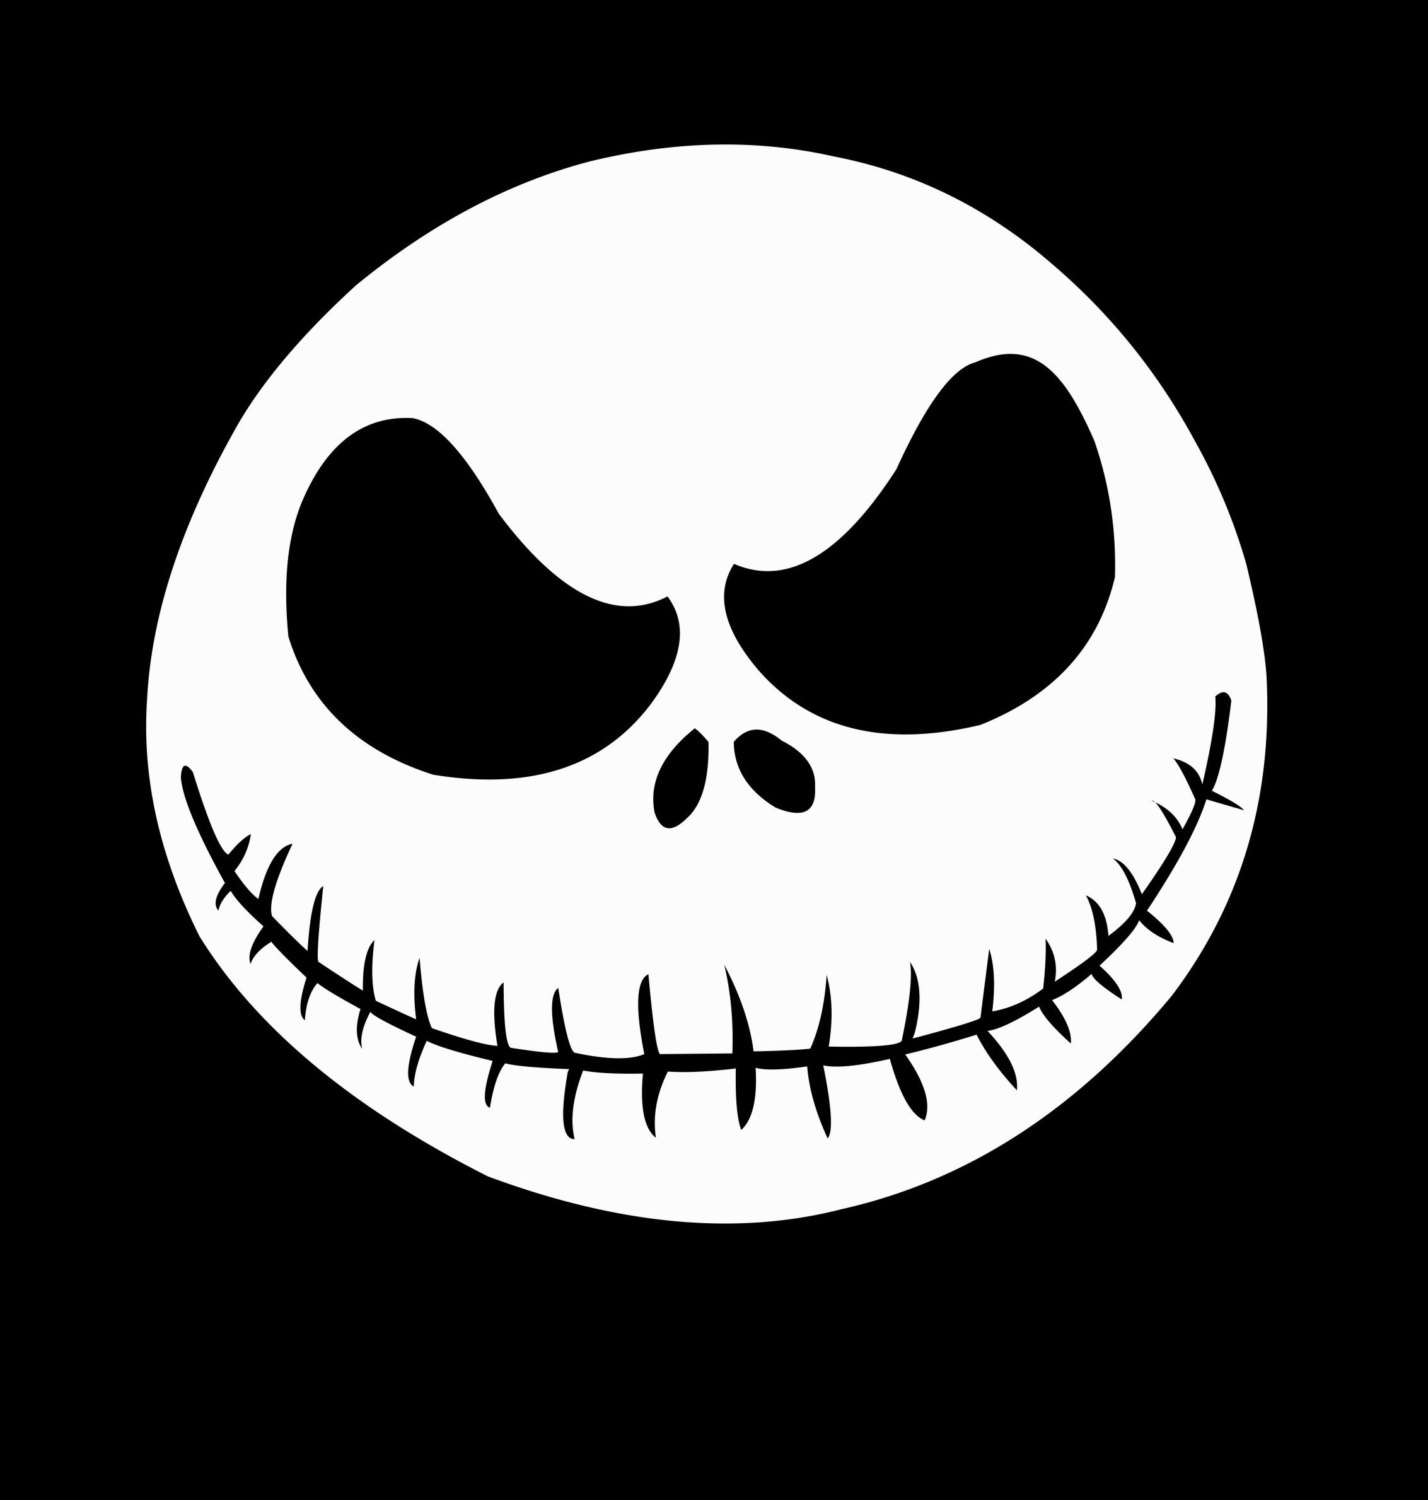Jack Skellington: (137, 141, 1275, 1232)
